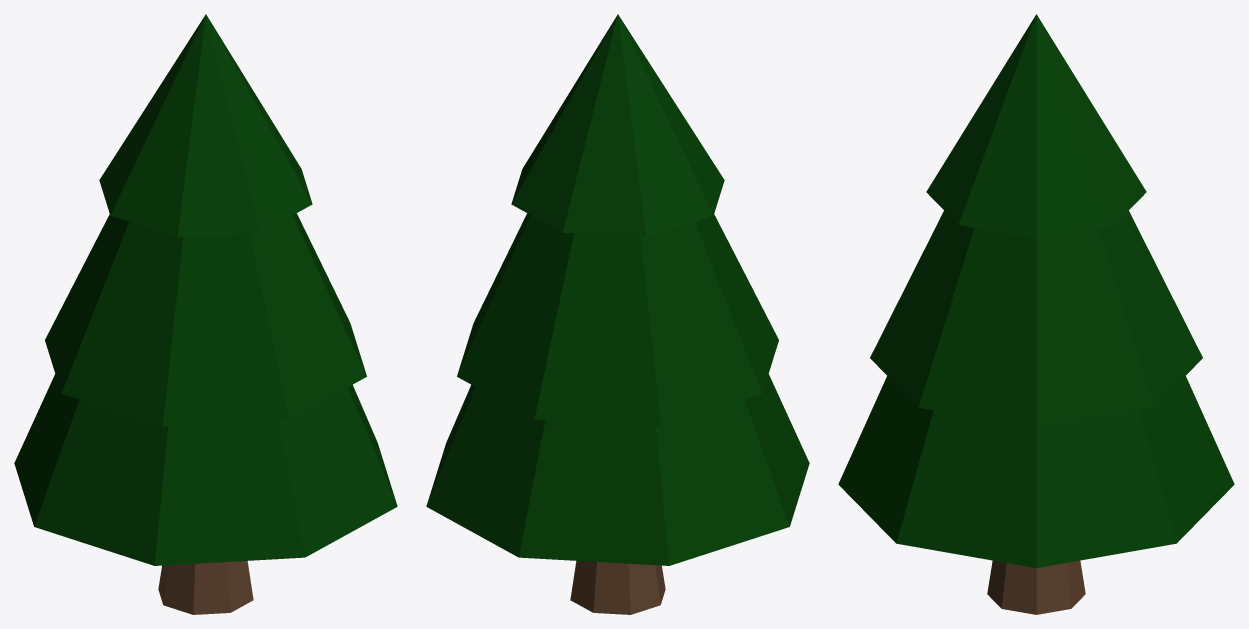
3 views of the same model, side by side, from view 1: azimuth 30°, elevation 25°; view 2: azimuth 150°, elevation 25°; view 3: azimuth 270°, elevation 25° (orthographic).
Parts seen in each view (by area): view 1: Arvore; view 2: Arvore; view 3: Arvore.
Part boxes in pixels (<box>): Arvore: <box>14,14,397,614</box>; Arvore: <box>426,14,809,614</box>; Arvore: <box>838,14,1234,614</box>.
Bounding box in the file's own units: 3.59 × 5.8 × 3.59.
